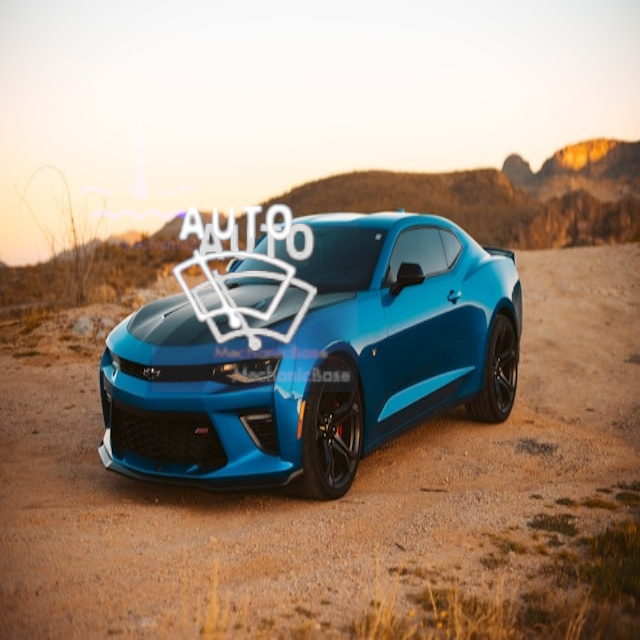symbol: (152, 186, 358, 392), (135, 168, 336, 369), (48, 77, 230, 259), (71, 9, 227, 165)
